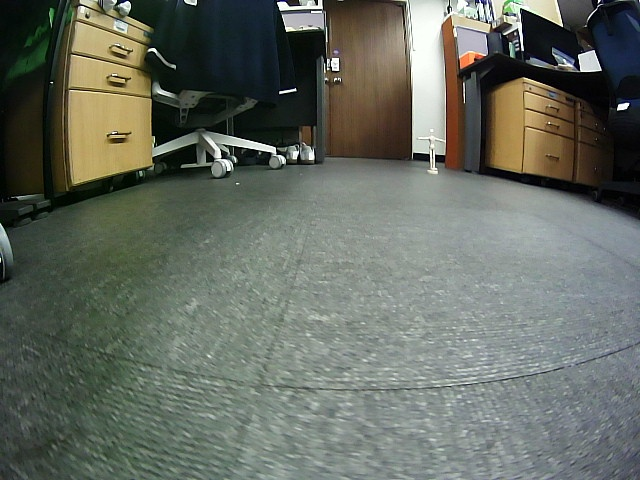person: (417, 129, 445, 170)
